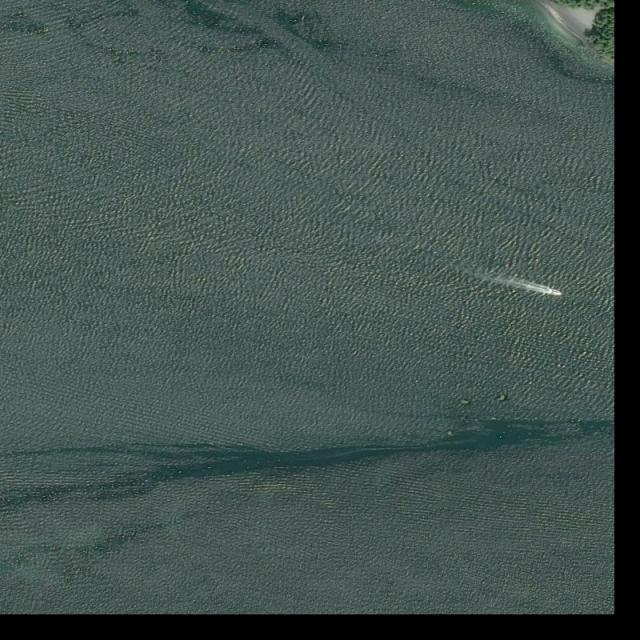ship: (550, 291, 563, 296)
